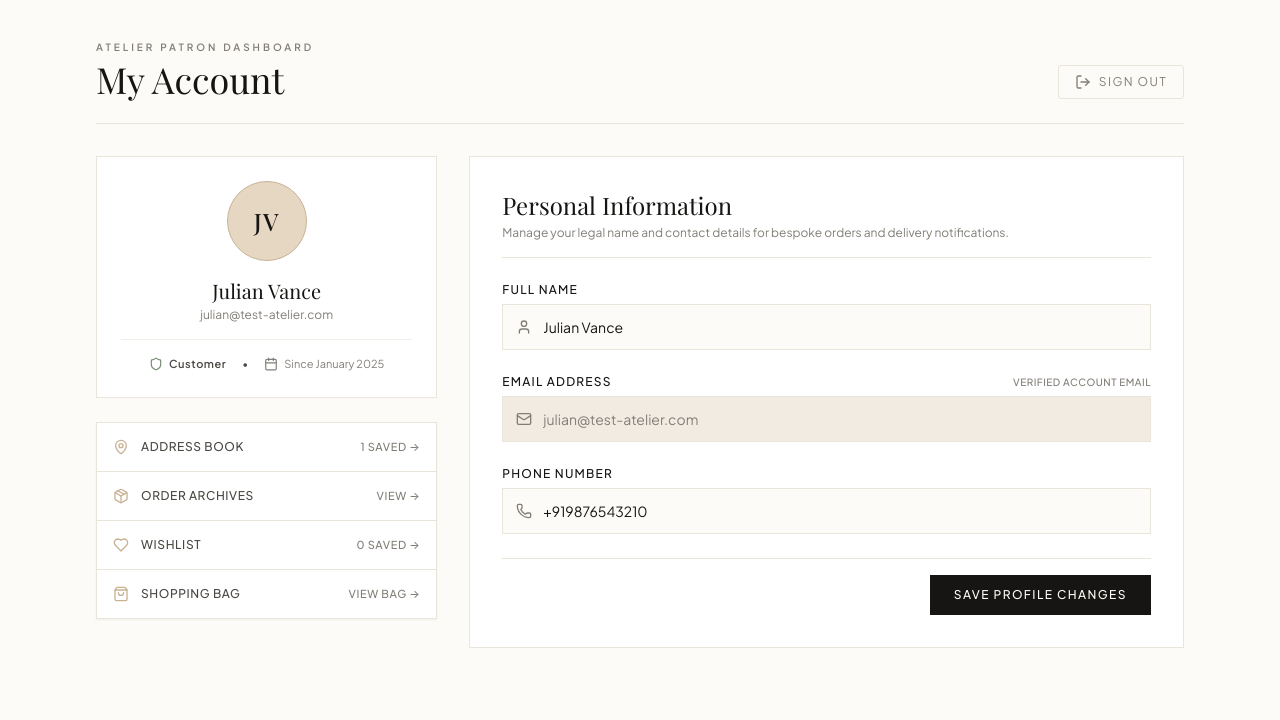
Customer Account & Address Book Suite › ProfilePage › submits updated profile name and phone
The width and height of the screenshot is (1280, 720).
Replace the text in the field showing "Julian Vance" with "Julian Vance-Montague": (827, 327) [502, 304, 1151, 350]
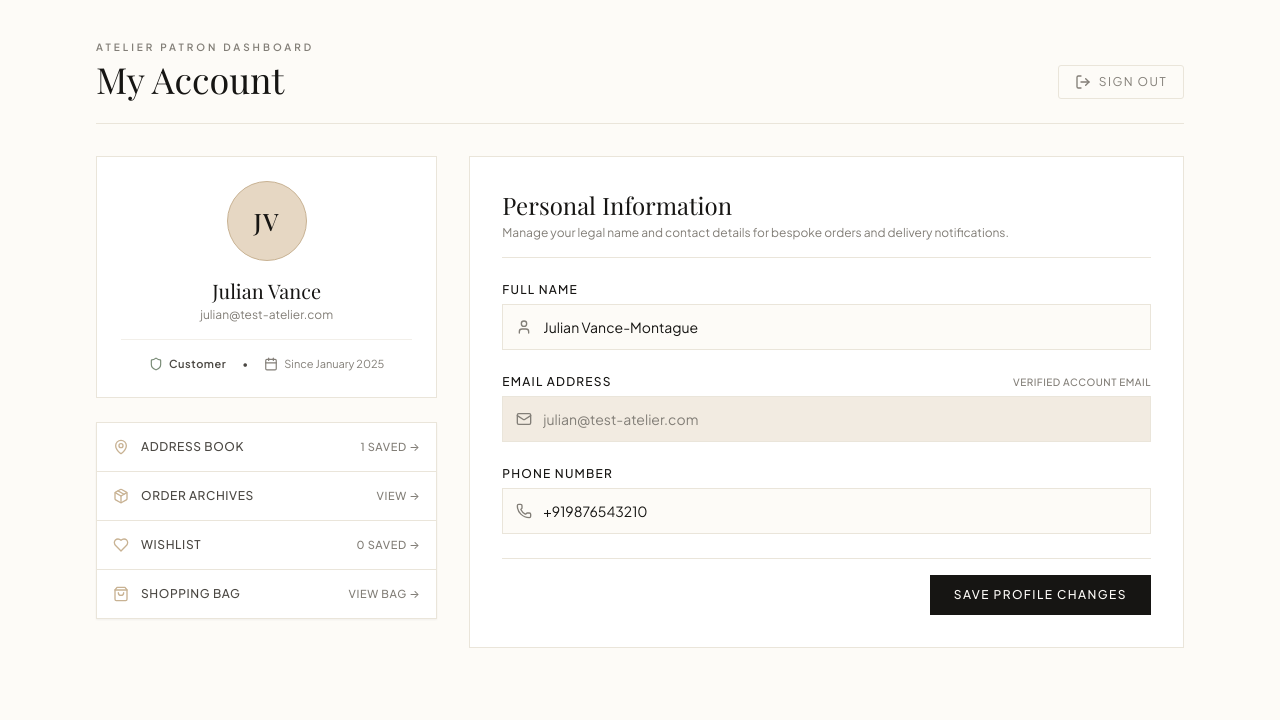
Click the button "Save Profile Changes": (1040, 595) [930, 575, 1151, 615]
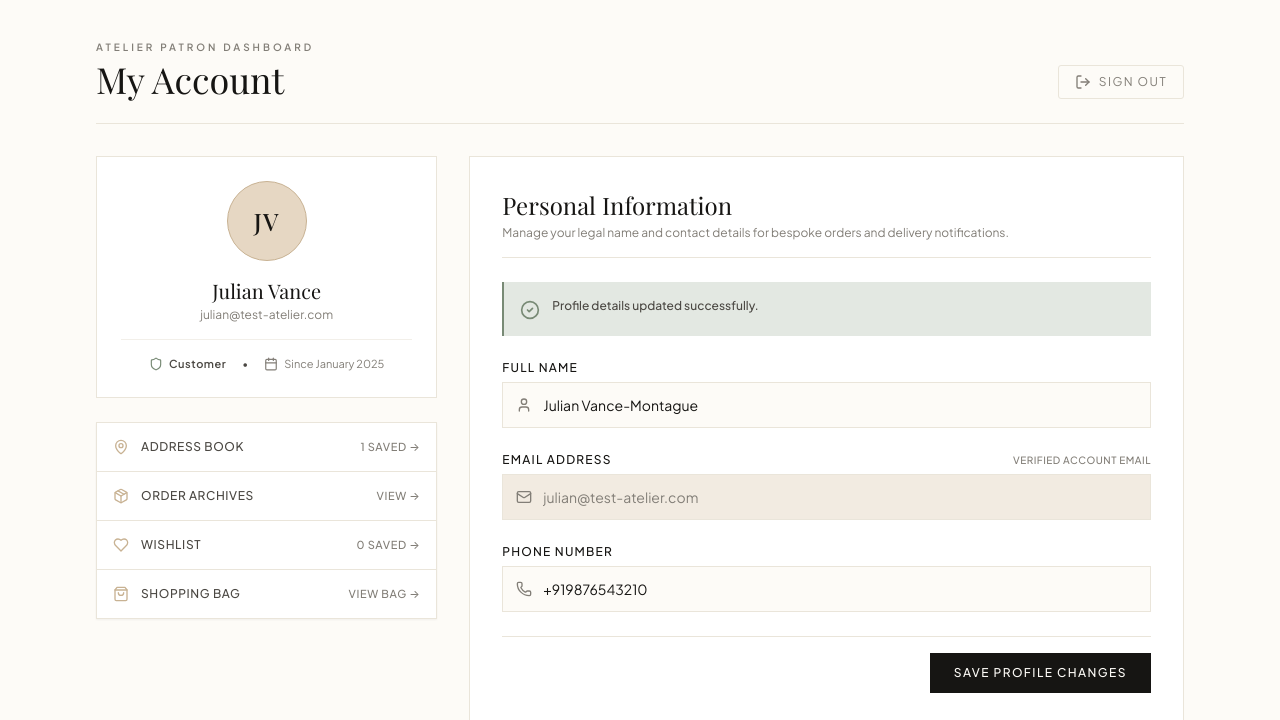
Check: the text "Profile details updated successfully." is shown, box [552, 298, 759, 314]
